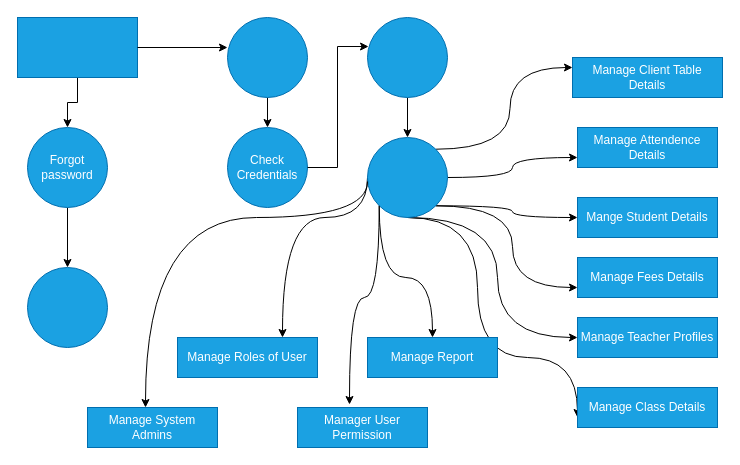
This 740x465 diagram has some shape labels left out. Here are the shapes that lost their labels. From the top down, the centre of each, then its label:
[77,47]: Admin
[267,57]: Login to System
[407,57]: Check Roles of Access
[407,177]: Manage Modules
[67,307]: Send Email to User
